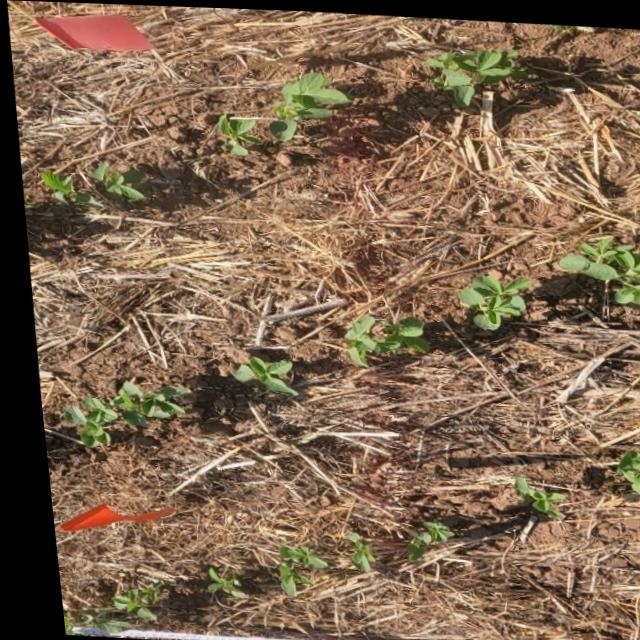soy_plant: (54, 380, 180, 447), (422, 46, 524, 103), (553, 233, 640, 299), (265, 71, 346, 138), (50, 580, 144, 635), (337, 312, 420, 362), (452, 272, 524, 326), (259, 543, 314, 595), (224, 354, 288, 392), (38, 171, 97, 208), (604, 436, 640, 492), (86, 160, 138, 198), (504, 473, 552, 513), (393, 518, 440, 558), (214, 112, 257, 153), (192, 564, 231, 596), (334, 530, 362, 569)
